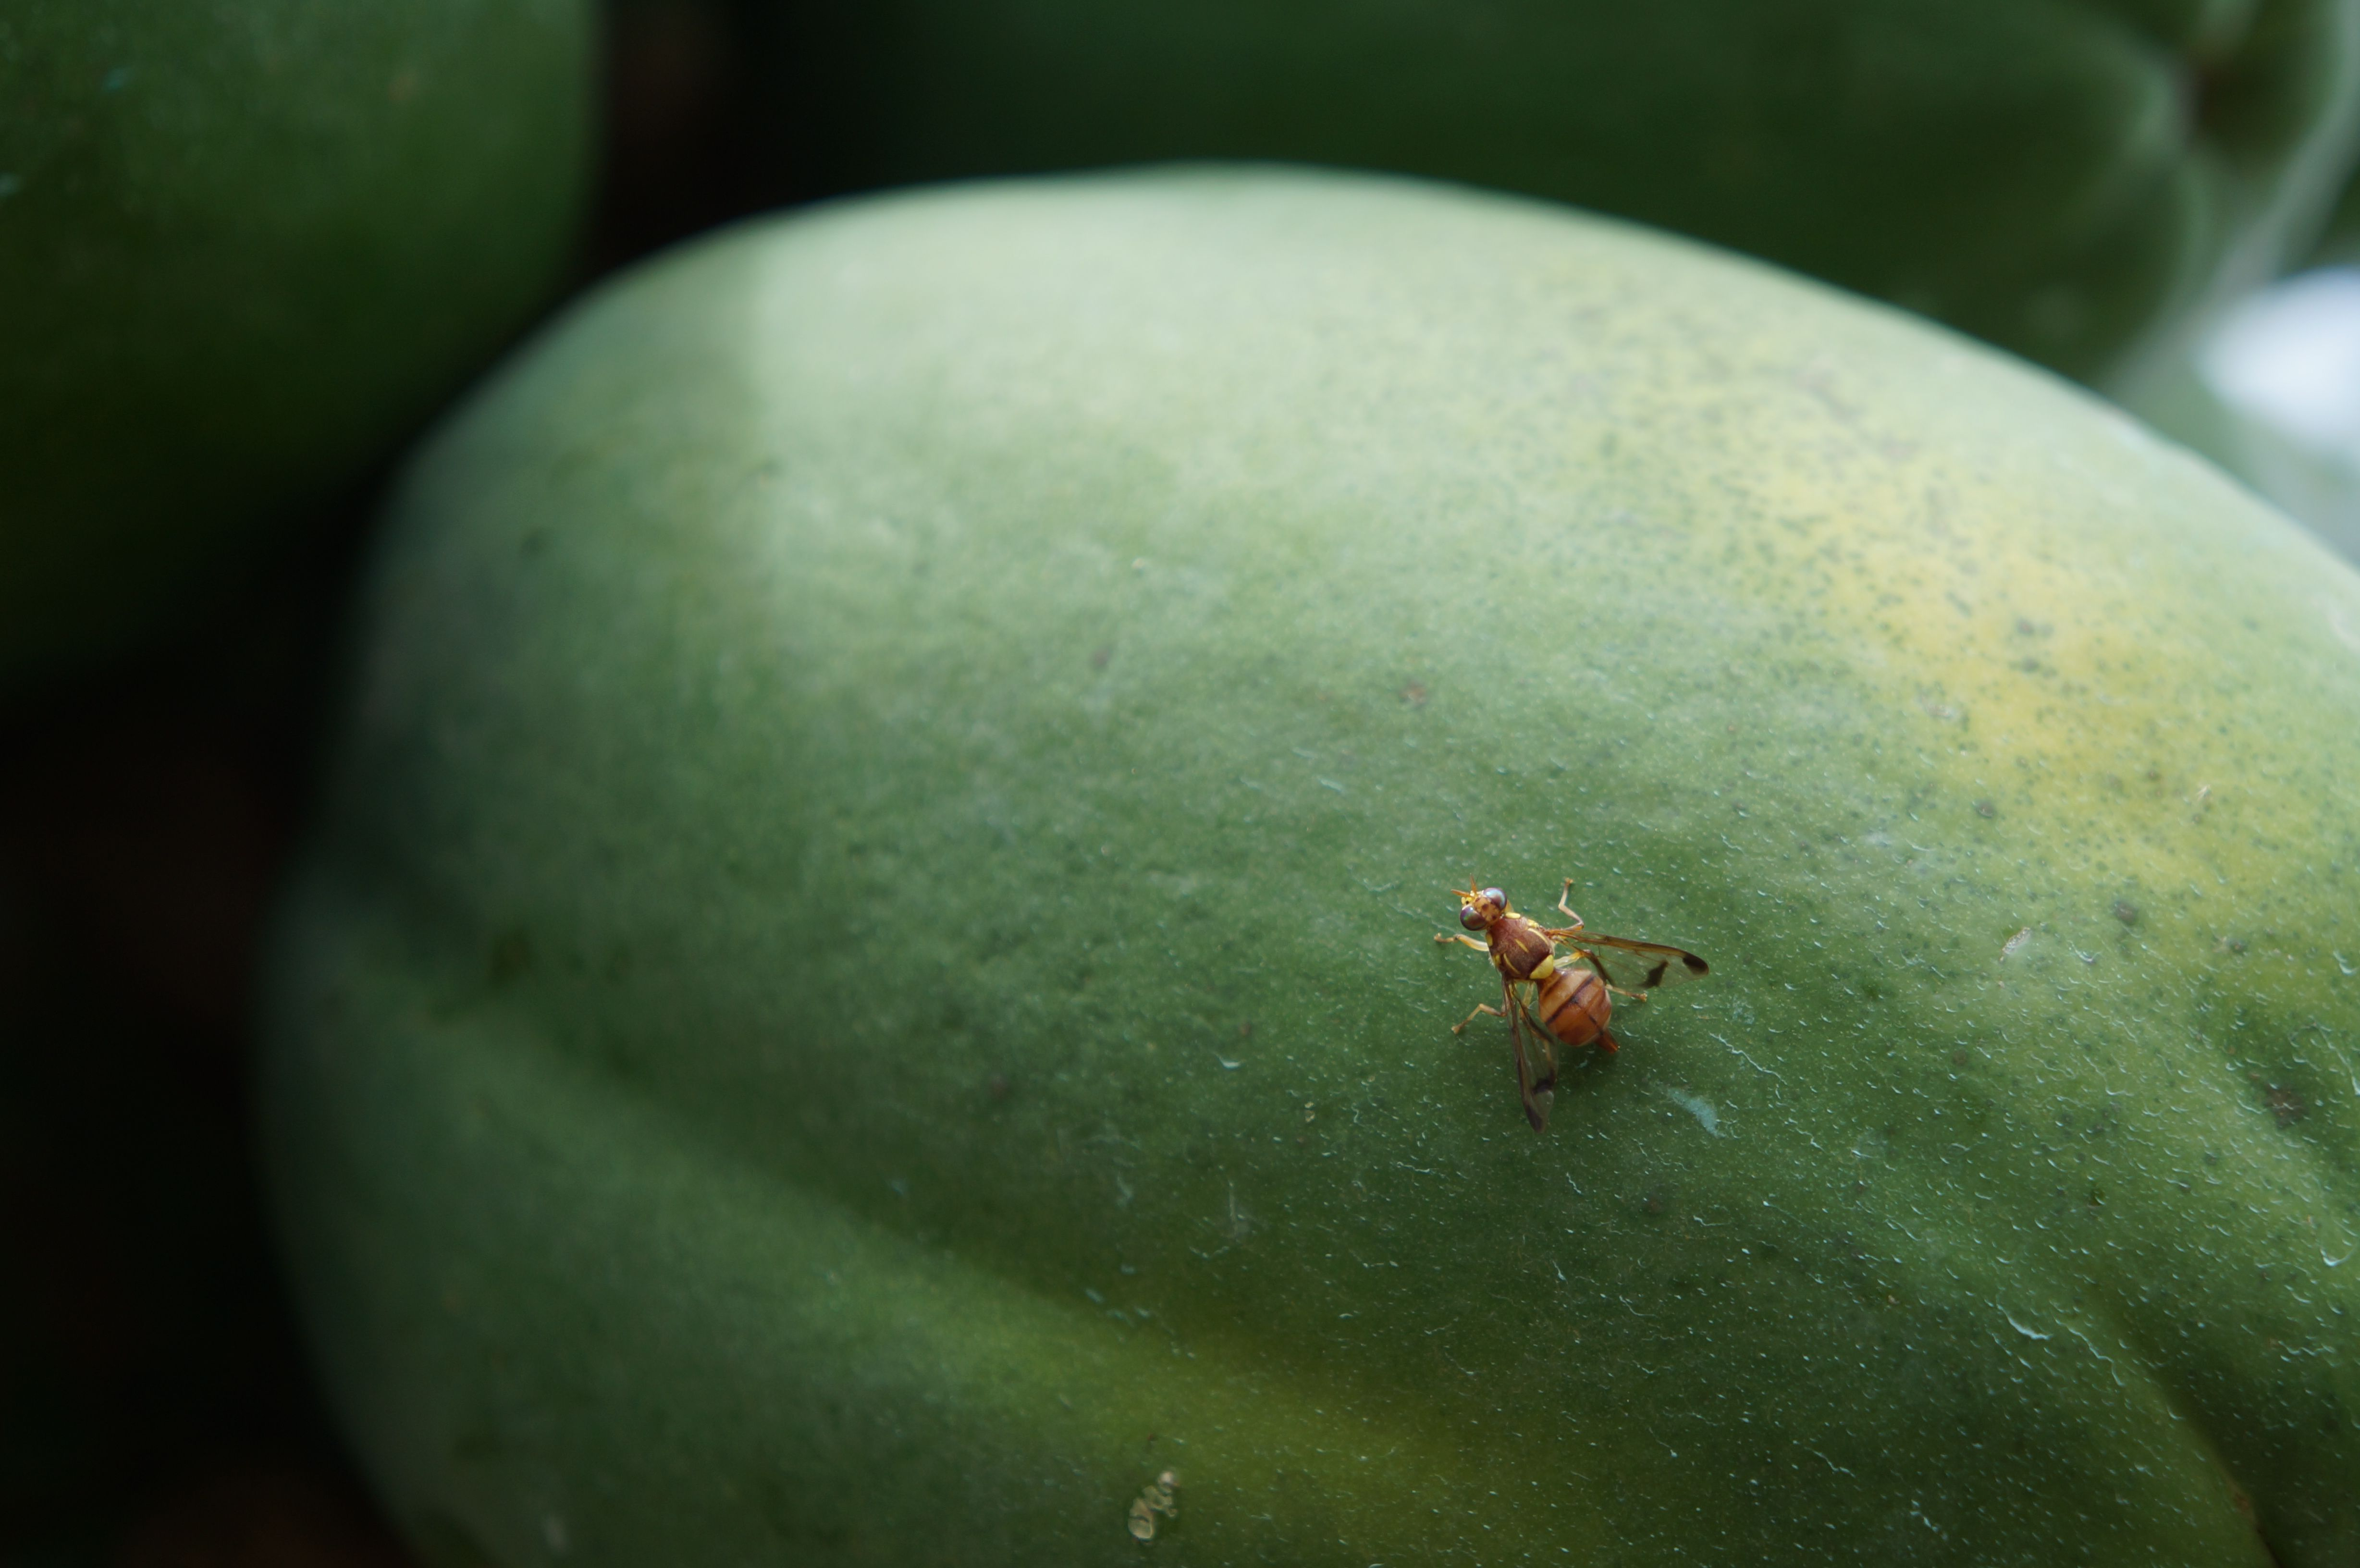Fruit fly: (1438, 848, 1737, 1171)
